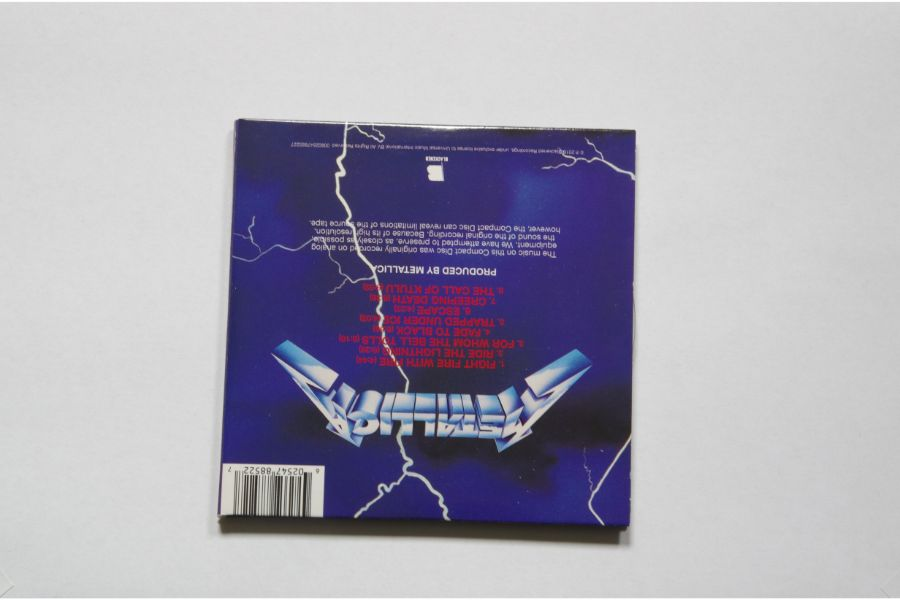album: (218, 119, 635, 527)
